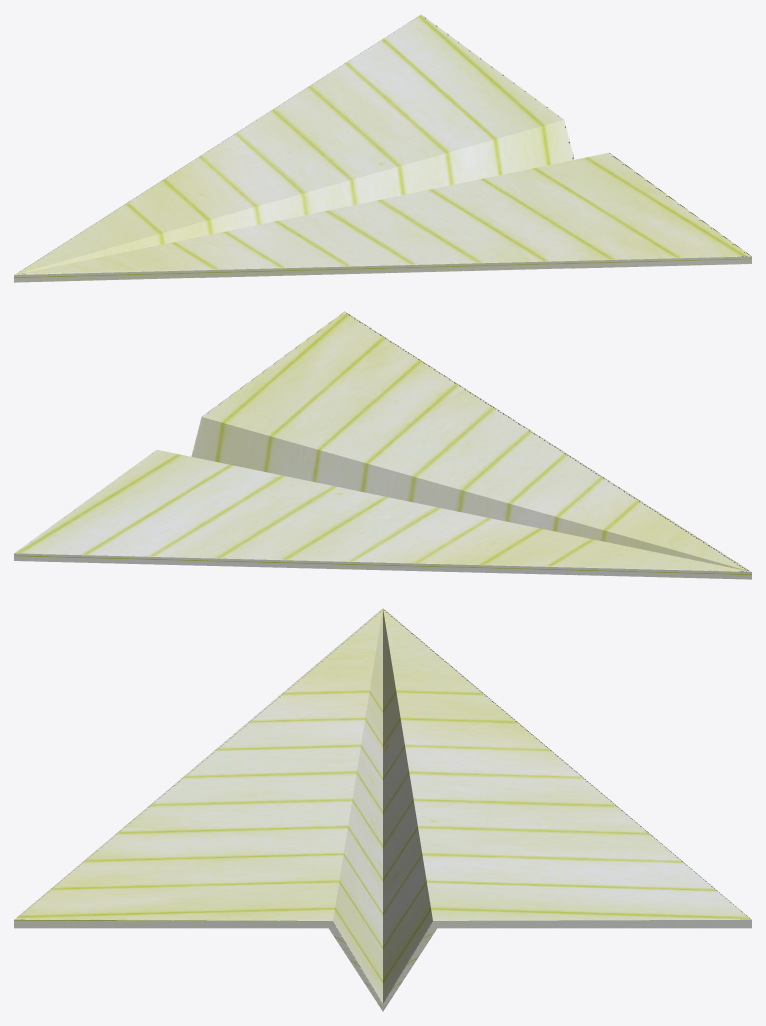
Rendered from Paperplane_green.FBX.
3 views of the same model, one above another, from view 1: azimuth 30°, elevation 25°; view 2: azimuth 150°, elevation 25°; view 3: azimuth 270°, elevation 25° (orthographic). The views are drawn at different scales.
Visible parts, largest first — view 1: Paperplane_green; view 2: Paperplane_green; view 3: Paperplane_green.
Boxes of the visible parts, left/top/right/bottom form: Paperplane_green: left=14, top=14, right=751, bottom=282; Paperplane_green: left=14, top=311, right=751, bottom=579; Paperplane_green: left=14, top=608, right=751, bottom=1011.
Size of the model in its own units: 8.22 by 1.13 by 8.21.
Materials: 1 (1 with a texture image).
